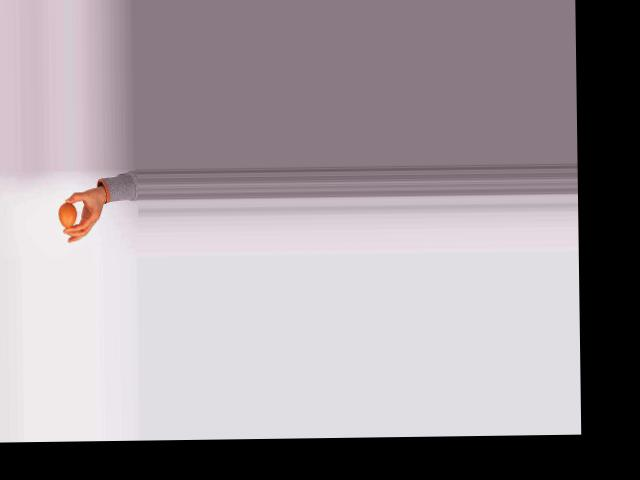egg: (58, 202, 76, 228)
